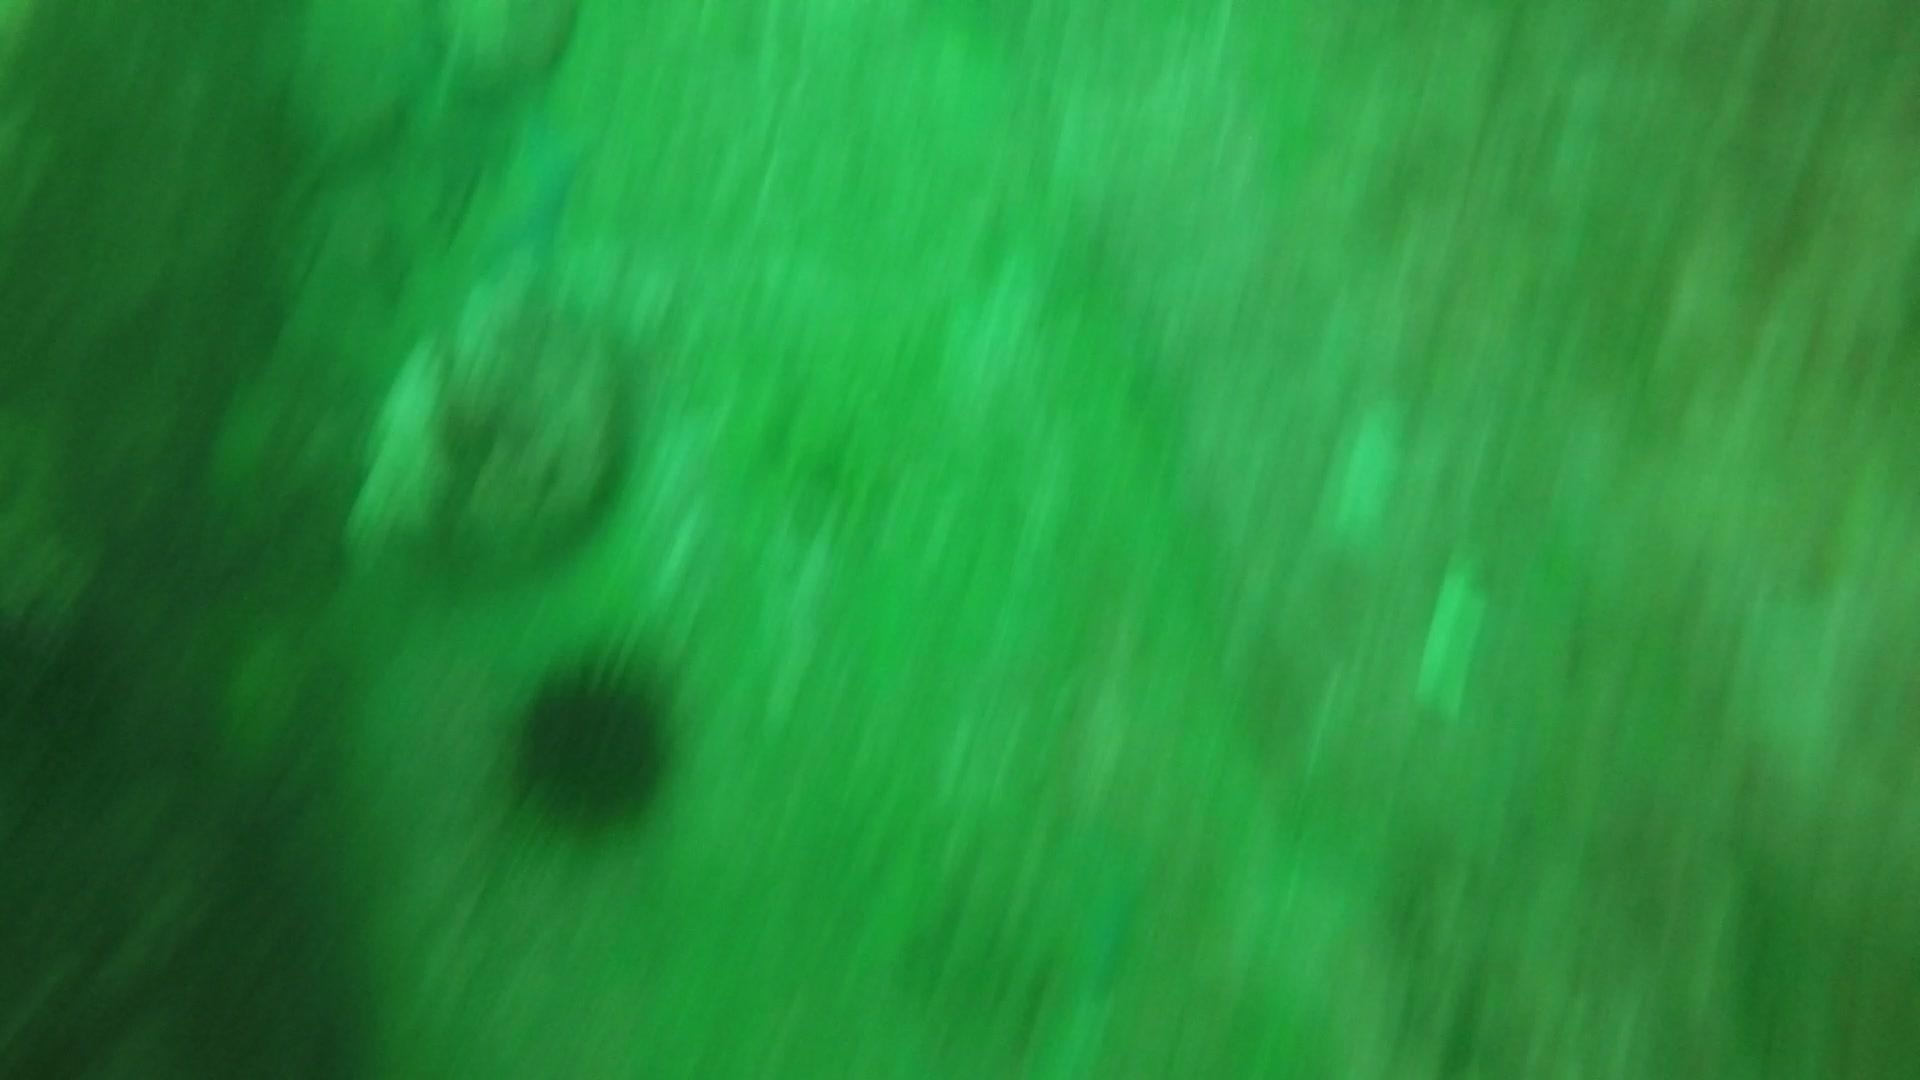echinus: (498, 646, 687, 837)
starfish: (458, 120, 597, 278)
